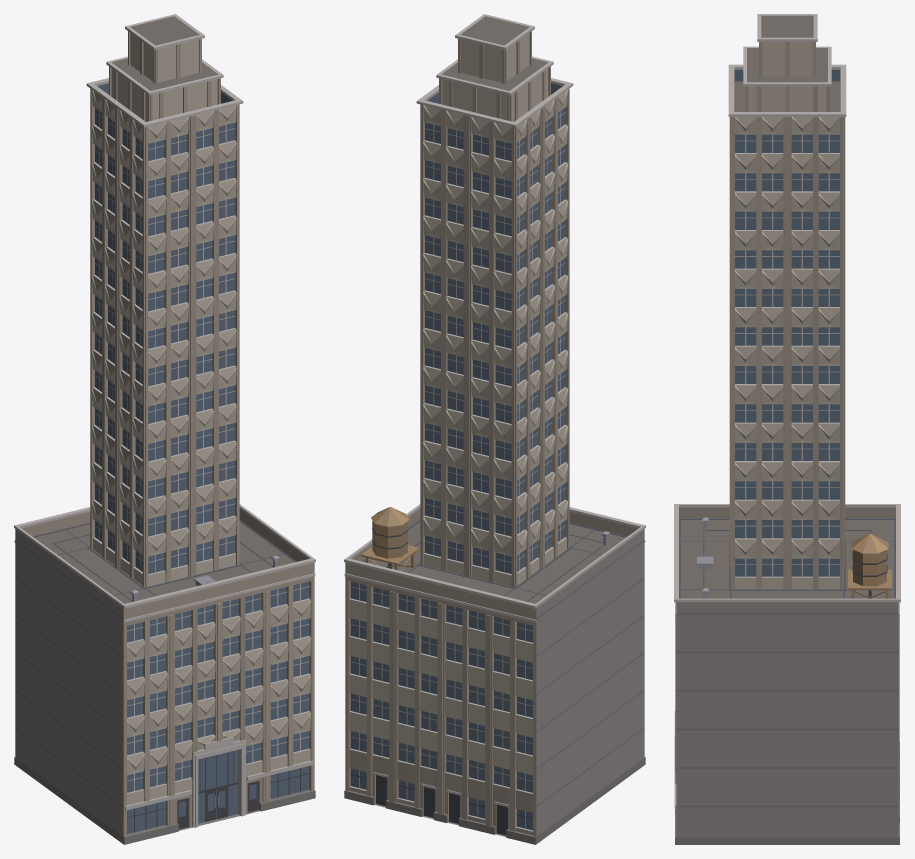
The model's file is city_deco.glb.
3 renders of one model, left to right at view 1: azimuth 30°, elevation 25°; view 2: azimuth 150°, elevation 25°; view 3: azimuth 270°, elevation 25°, orthographic. The views are drawn at different scales.
Parts seen in each view (by area): view 1: city_deco; view 2: city_deco; view 3: city_deco.
Boxes of the visible parts, x1,y1,x2,y2 form: city_deco: (14,14,315,844); city_deco: (344,14,645,844); city_deco: (674,14,900,844).
Size of the model in its own units: 18.67 by 70 by 18.67.
